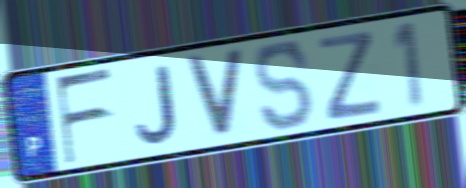1: (391, 18, 426, 111)
F: (53, 64, 115, 168)
J: (133, 62, 180, 147)
S: (252, 38, 317, 135)
V: (182, 47, 247, 141)
Z: (317, 28, 384, 124)
